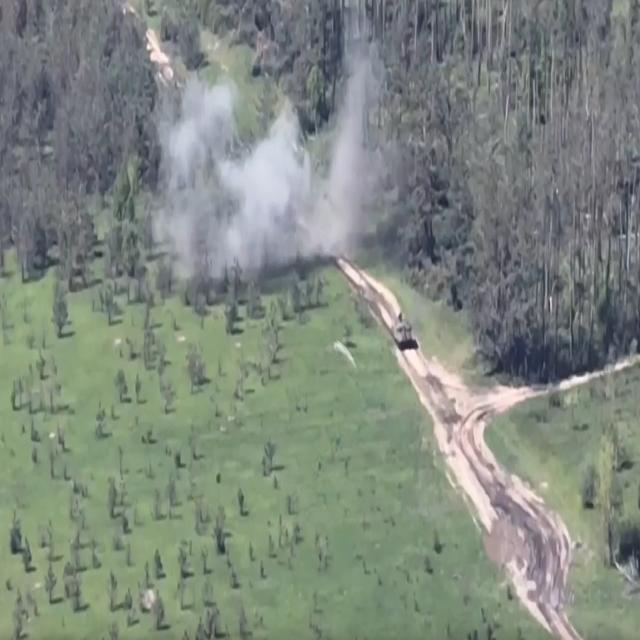MBT: (394, 313, 419, 357)
